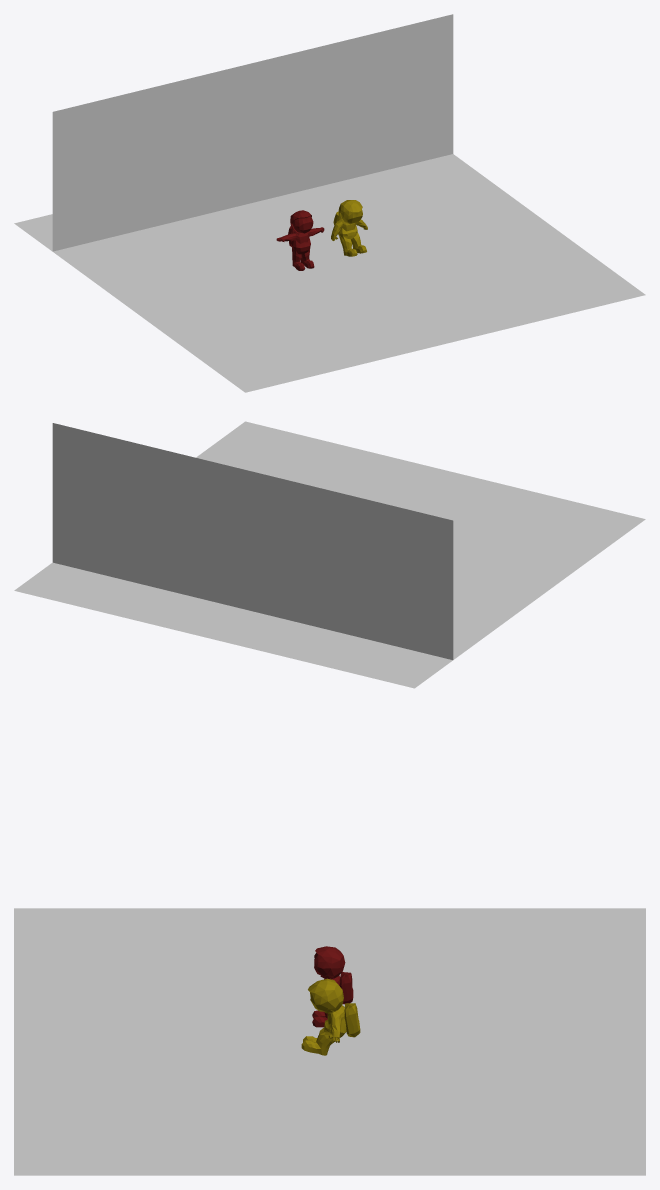
File: astronauts.dae
The picture shows the model from 3 angles, top to bottom: view 1: azimuth 30°, elevation 25°; view 2: azimuth 150°, elevation 25°; view 3: azimuth 270°, elevation 25°; orthographic projection. The views are drawn at different scales.
Parts seen in each view (by area): view 1: pPlane1, pPlane2, astronaut_sit_Mesh, astronaut_Mesh; view 2: pPlane2, pPlane1; view 3: pPlane1, astronaut_sit_Mesh, astronaut_Mesh.
Part boxes in pixels (box(x1,y1,x2,y2)): pPlane1: box(14, 154, 645, 392); pPlane2: box(52, 14, 453, 251); astronaut_sit_Mesh: box(331, 200, 367, 256); astronaut_Mesh: box(276, 210, 324, 270); pPlane2: box(52, 423, 453, 659); pPlane1: box(14, 421, 645, 688); pPlane1: box(14, 908, 645, 1175); astronaut_sit_Mesh: box(301, 978, 360, 1055); astronaut_Mesh: box(312, 946, 353, 1027).
Size of the model in its own units: 3000 by 1000 by 3000.
